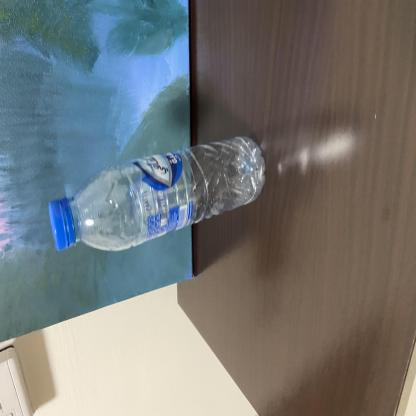Glass Bottle: (48, 136, 266, 251)
